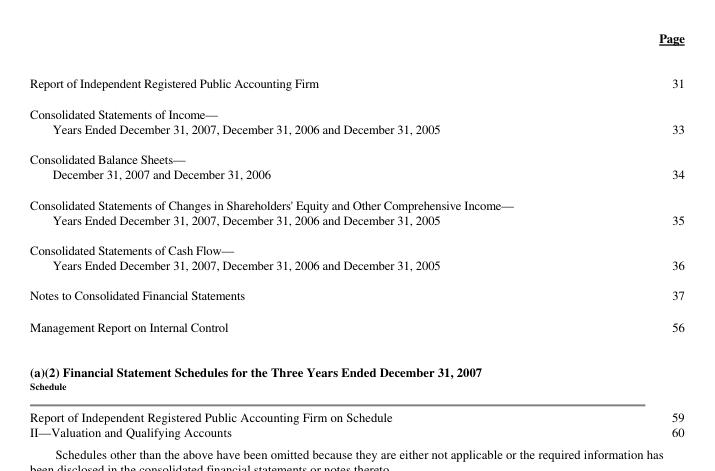table: (29, 28, 683, 439)
table column: (29, 28, 585, 439), (585, 28, 683, 439)
table column header: (29, 28, 683, 60)
table projected row header: (29, 348, 683, 379), (29, 379, 683, 399)
table row: (29, 97, 683, 143), (29, 233, 683, 279), (29, 143, 683, 188), (29, 188, 683, 233), (29, 310, 683, 348), (29, 60, 683, 97), (29, 28, 683, 60), (29, 279, 683, 310), (29, 348, 683, 379), (29, 399, 683, 423), (29, 379, 683, 399), (29, 423, 683, 439)
